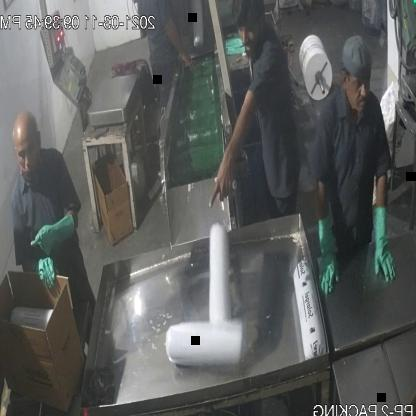glove: (29, 211, 76, 261), (314, 214, 340, 301), (372, 201, 396, 283)
no_glove: (206, 90, 259, 212), (163, 13, 194, 74)
